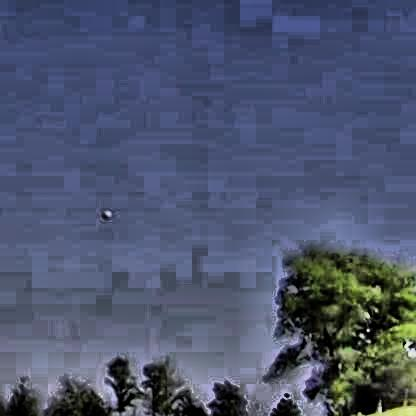golfball: (99, 207, 110, 217)
